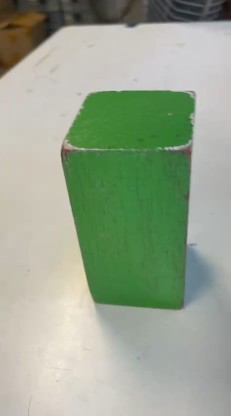green: (57, 87, 196, 301)
